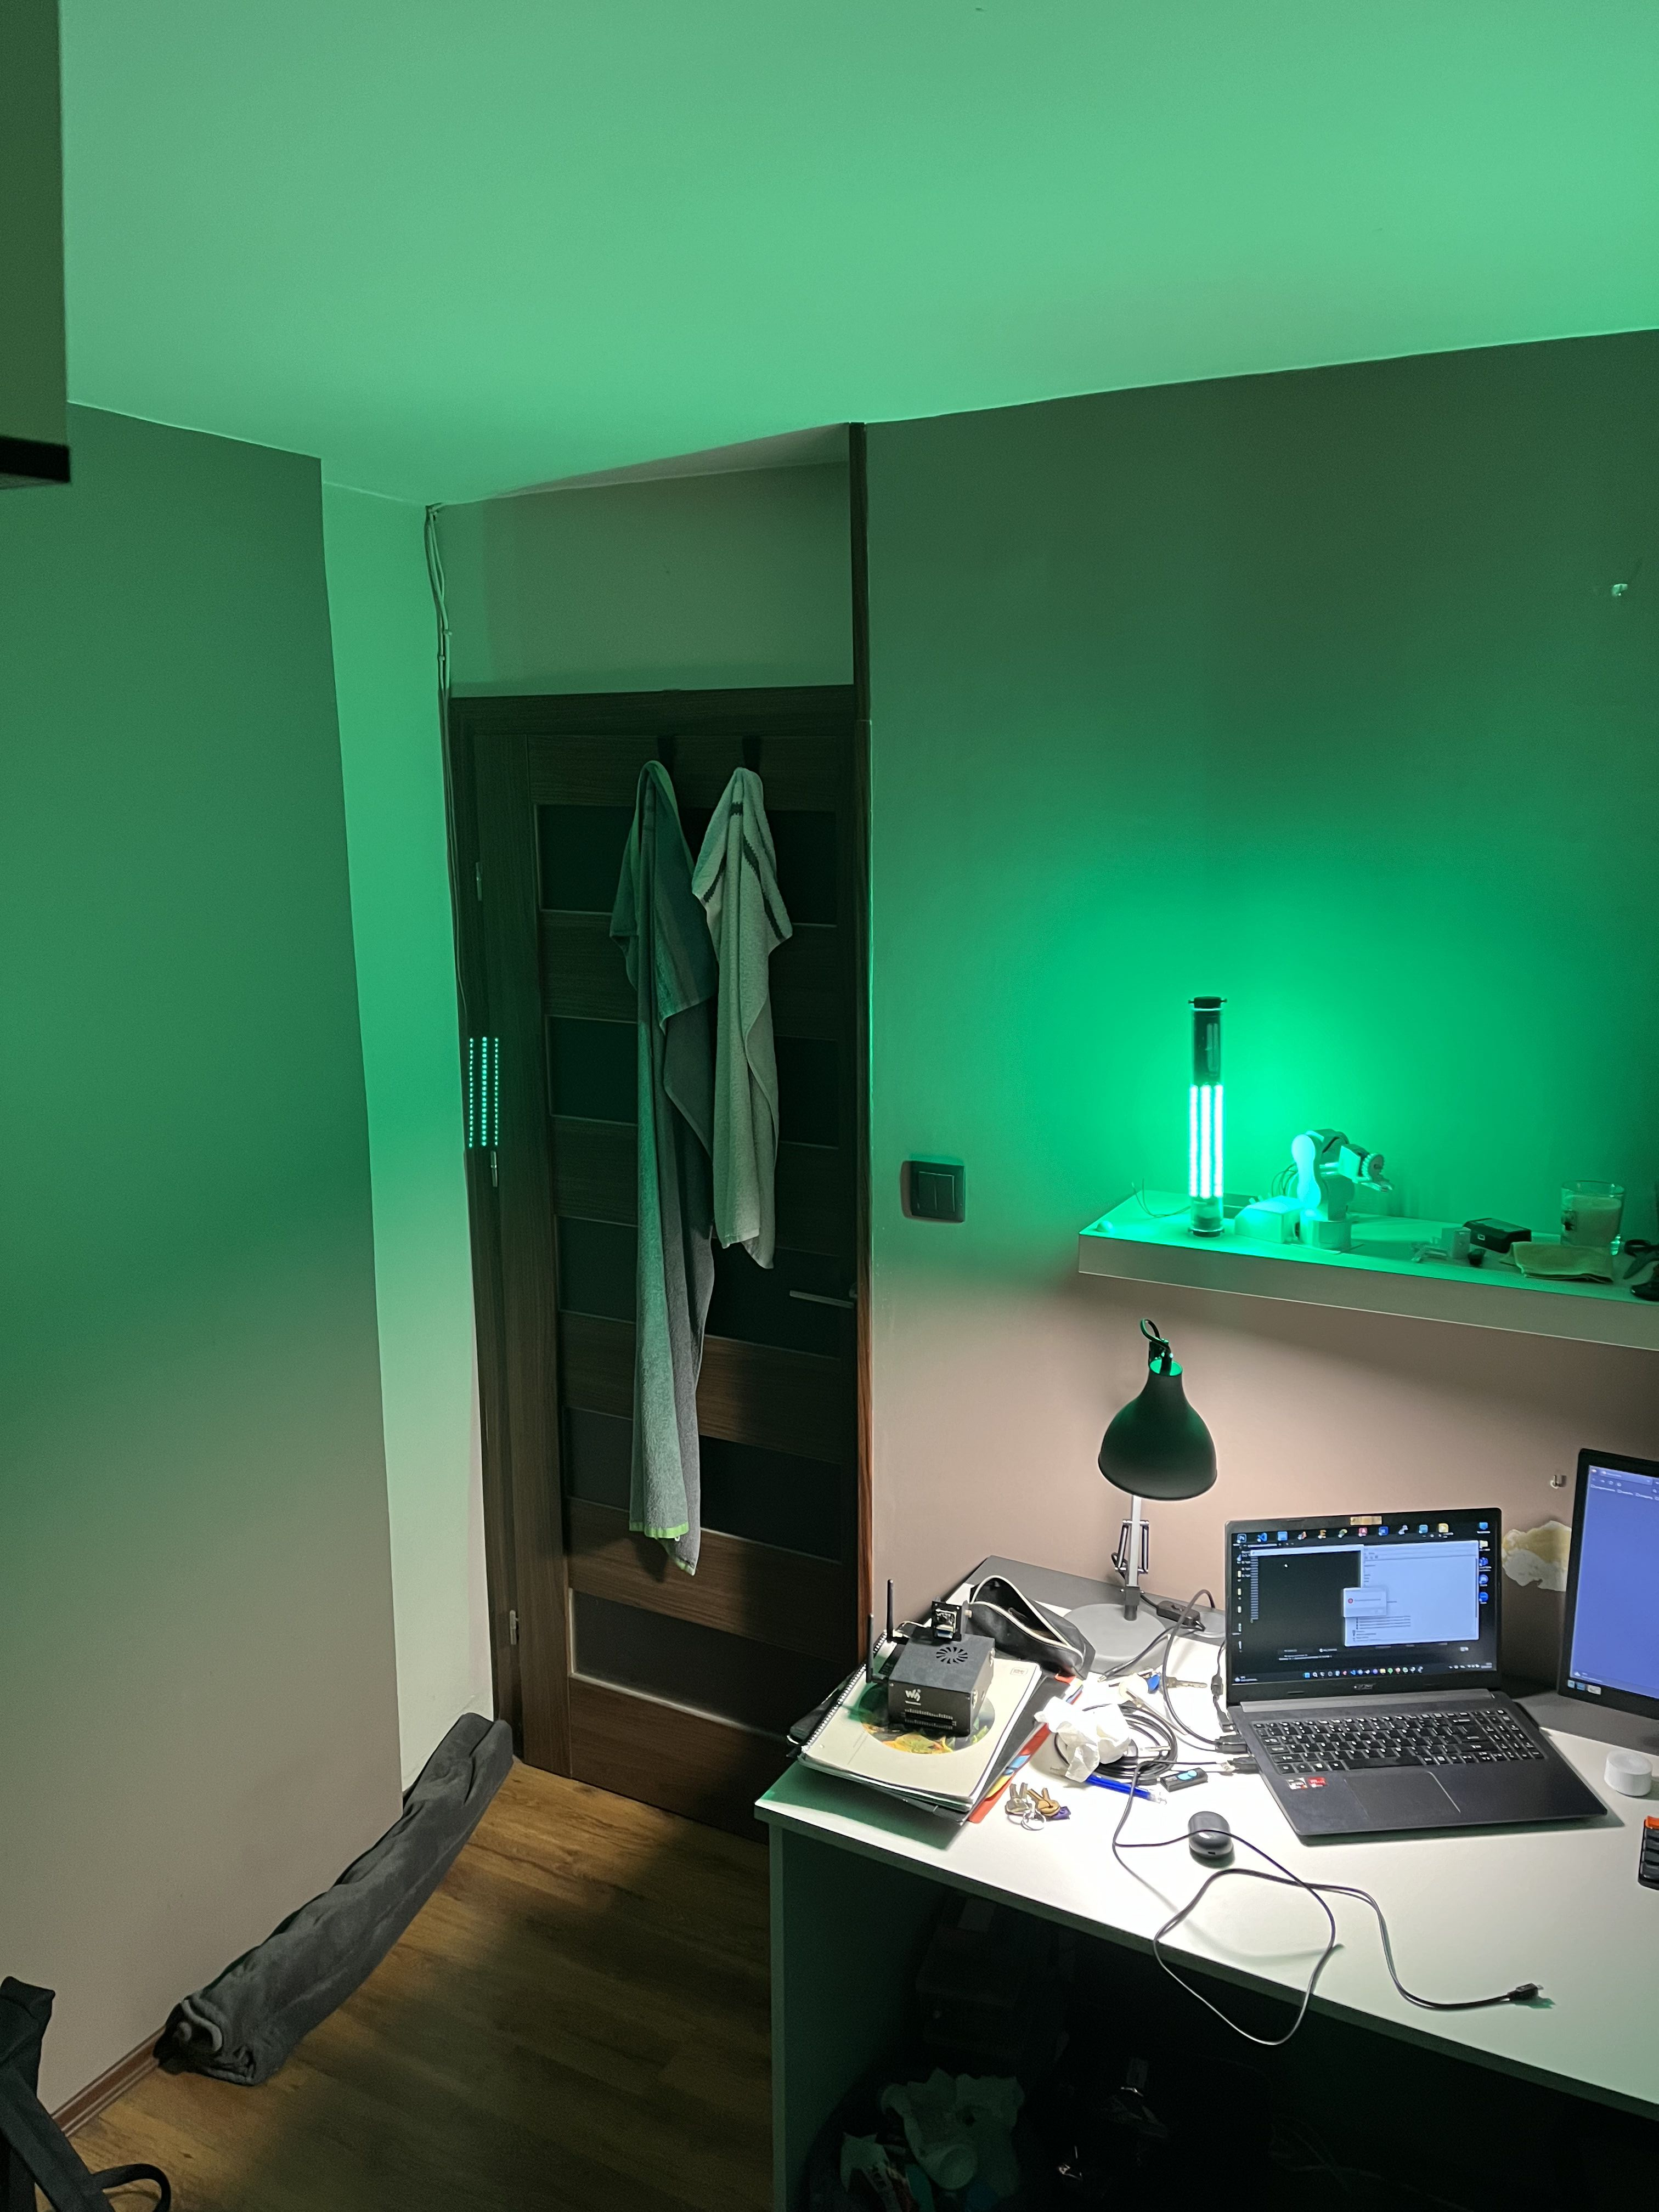green: (1192, 1003, 1229, 1233)
